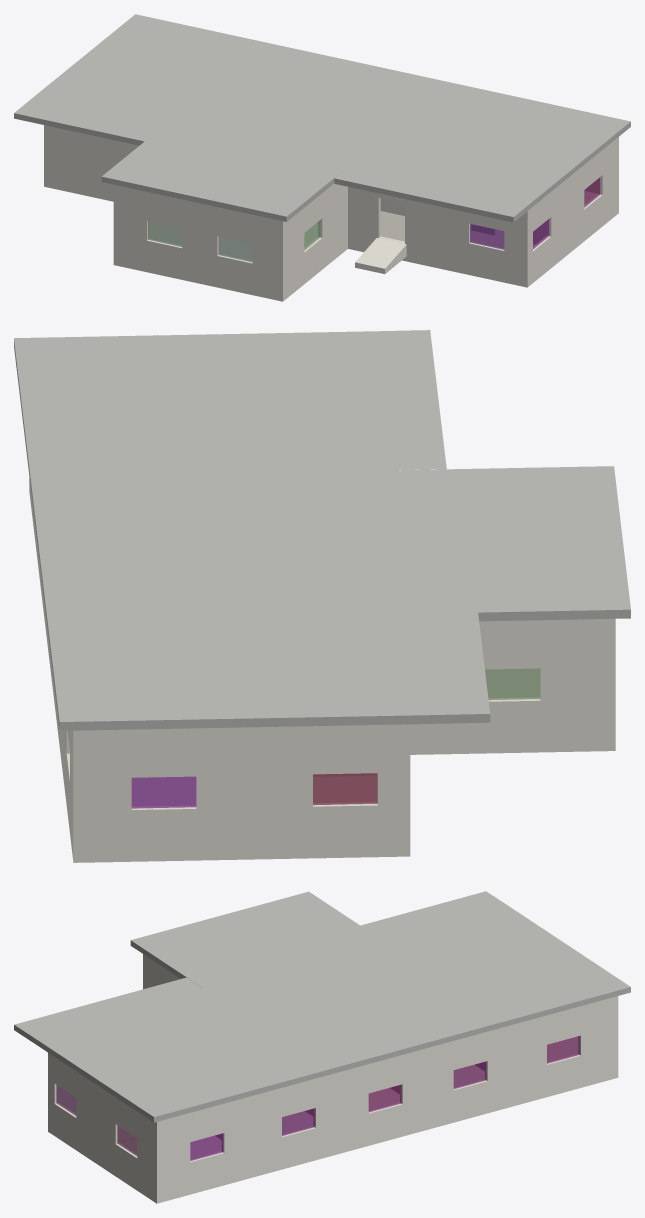
Rendered from kw_727_fort_st.glb.
The picture shows the model from 3 angles, top to bottom: view 1: azimuth 30°, elevation 25°; view 2: azimuth 150°, elevation 25°; view 3: azimuth 270°, elevation 25°; orthographic projection. The views are drawn at different scales.
Visible parts, largest first — view 1: Roof-col, Walls-col, Glass, Floor-col, EntryRamp-col, Partitions-col; view 2: Roof-col, Walls-col, Glass, Floor-col; view 3: Roof-col, Walls-col, Glass, Floor-col.
Boxes of the visible parts, left/top/right/bottom form: Roof-col: left=14, top=14, right=630, bottom=222; Walls-col: left=44, top=125, right=618, bottom=301; Glass: left=148, top=177, right=599, bottom=262; Floor-col: left=149, top=191, right=597, bottom=260; EntryRamp-col: left=355, top=238, right=406, bottom=273; Partitions-col: left=380, top=198, right=546, bottom=243; Roof-col: left=14, top=330, right=630, bottom=730; Walls-col: left=29, top=477, right=615, bottom=862; Glass: left=131, top=668, right=540, bottom=808; Floor-col: left=132, top=668, right=539, bottom=806; Roof-col: left=14, top=891, right=630, bottom=1122; Walls-col: left=48, top=954, right=618, bottom=1203; Glass: left=56, top=1036, right=579, bottom=1160; Floor-col: left=71, top=1037, right=577, bottom=1159.
Size of the model in its own units: 26.44 by 5.01 by 30.5.
